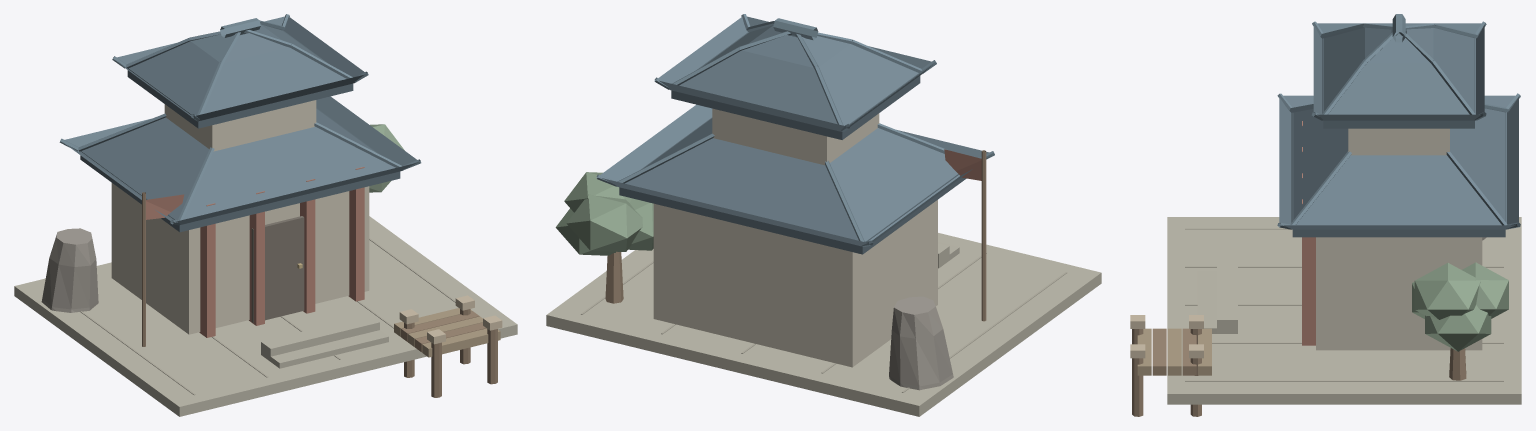
3 renders of one model, left to right at view 1: azimuth 30°, elevation 25°; view 2: azimuth 150°, elevation 25°; view 3: azimuth 270°, elevation 25°, orthographic. The views are drawn at different scales.
Parts seen in each view (by area): view 1: S40; view 2: S40; view 3: S40.
Boxes of the visible parts, <box> form: S40: <box>14,14,517,416</box>; S40: <box>546,14,1101,416</box>; S40: <box>1130,14,1521,416</box>.
Bounding box in the file's own units: 4.04 × 3.32 × 3.64.
